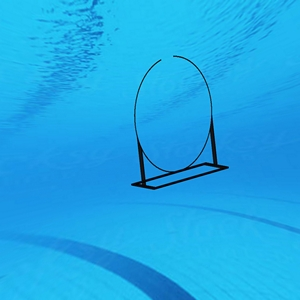circle: (130, 53, 231, 195)
